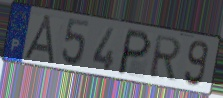4: (91, 26, 116, 72)
5: (60, 16, 91, 69)
9: (184, 39, 211, 89)
A: (21, 14, 57, 66)
P: (115, 28, 153, 78)
R: (148, 34, 184, 82)
